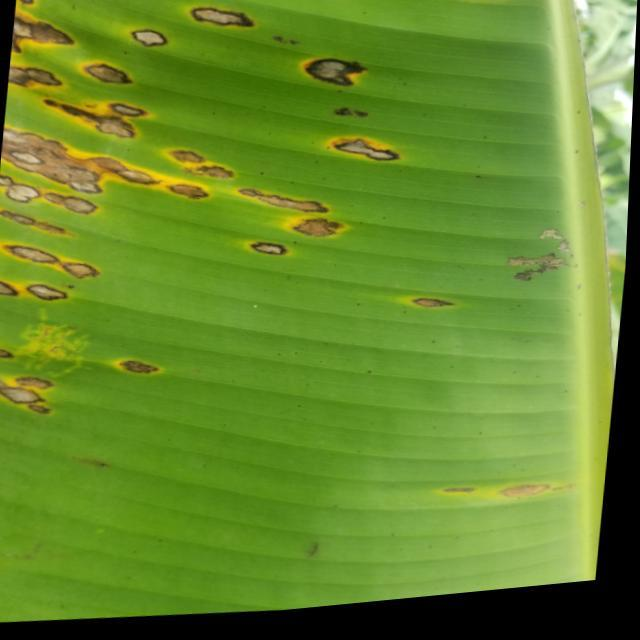Early_rust: (0, 0, 581, 419), (423, 464, 599, 525)
